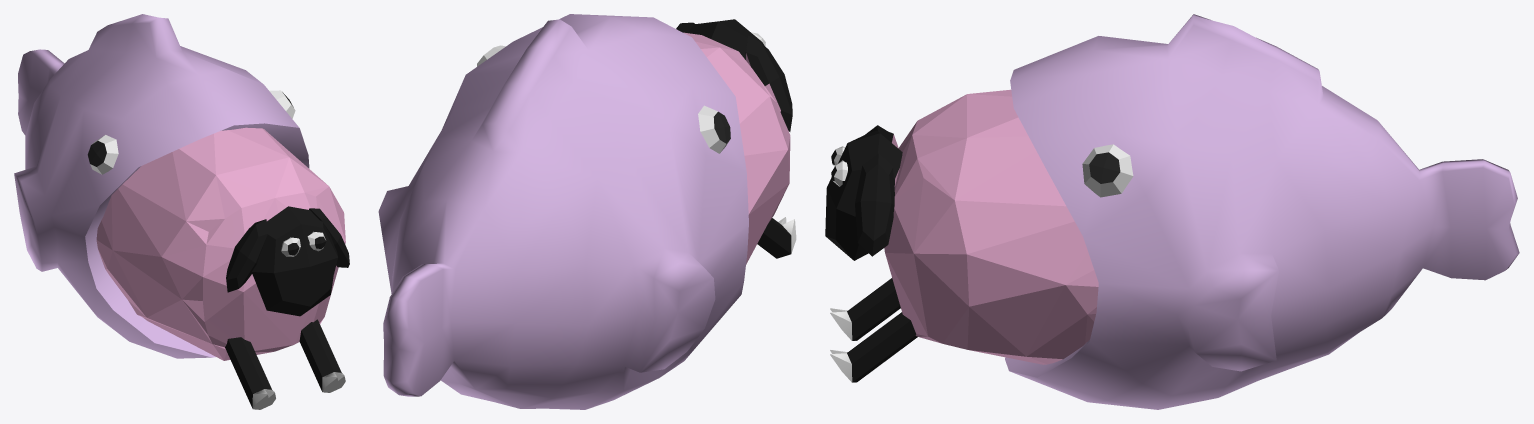
File: ovca_roza_riba.fbx
The picture shows the model from 3 angles, left to right: view 1: azimuth 30°, elevation 25°; view 2: azimuth 150°, elevation 25°; view 3: azimuth 270°, elevation 25°; orthographic projection. The views are drawn at different scales.
Visible parts, largest first — view 1: pCylinder12, fishcone_lo1, Sphere, Sphere.001; view 2: fishcone_lo1, pCylinder12, Sphere; view 3: fishcone_lo1, pCylinder12, Sphere.001.
Part boxes in pixels (<box>): pCylinder12: <box>96,127,349,409</box>; fishcone_lo1: <box>14,14,309,358</box>; Sphere: <box>87,135,118,174</box>; Sphere.001: <box>269,90,295,118</box>; fishcone_lo1: <box>378,14,748,409</box>; pCylinder12: <box>676,19,796,264</box>; Sphere: <box>698,105,730,153</box>; fishcone_lo1: <box>1005,14,1519,409</box>; pCylinder12: <box>825,89,1098,382</box>; Sphere.001: <box>1082,144,1133,197</box>.
Bounding box in the file's own units: 107 × 129 × 212.
